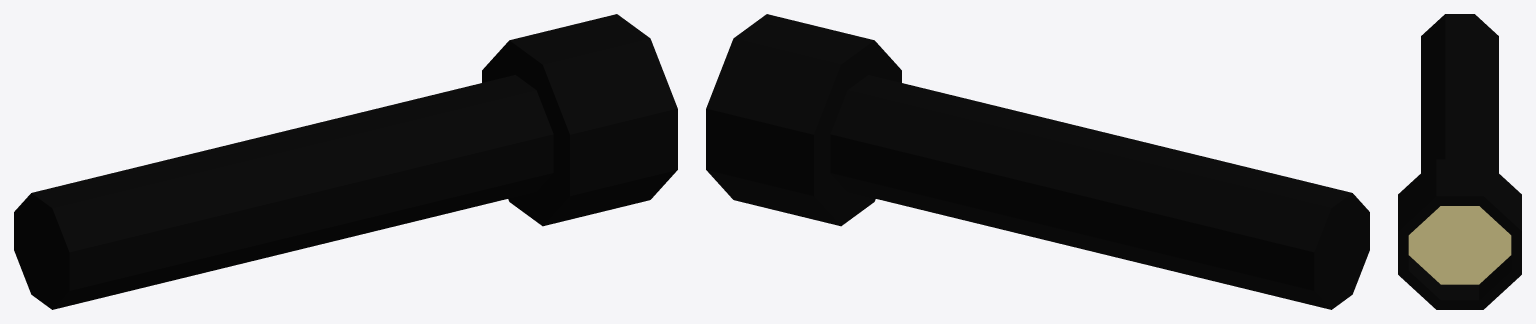
File: light.fbx
The picture shows the model from 3 angles, left to right: view 1: azimuth 30°, elevation 25°; view 2: azimuth 150°, elevation 25°; view 3: azimuth 270°, elevation 25°; orthographic projection. The views are drawn at different scales.
Visible parts, largest first — view 1: Cube.001; view 2: Cube.001; view 3: Cube.001.
Part boxes in pixels (bbox=[...]): Cube.001: bbox=[14, 14, 677, 309]; Cube.001: bbox=[706, 14, 1369, 309]; Cube.001: bbox=[1398, 14, 1521, 309].
Size of the model in its own units: 628 by 164 by 162.
